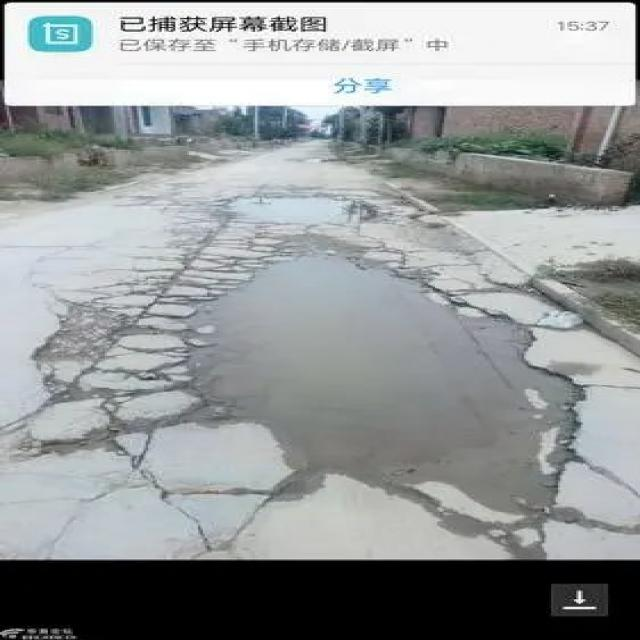Pothole: (173, 250, 579, 521), (221, 192, 376, 227)
